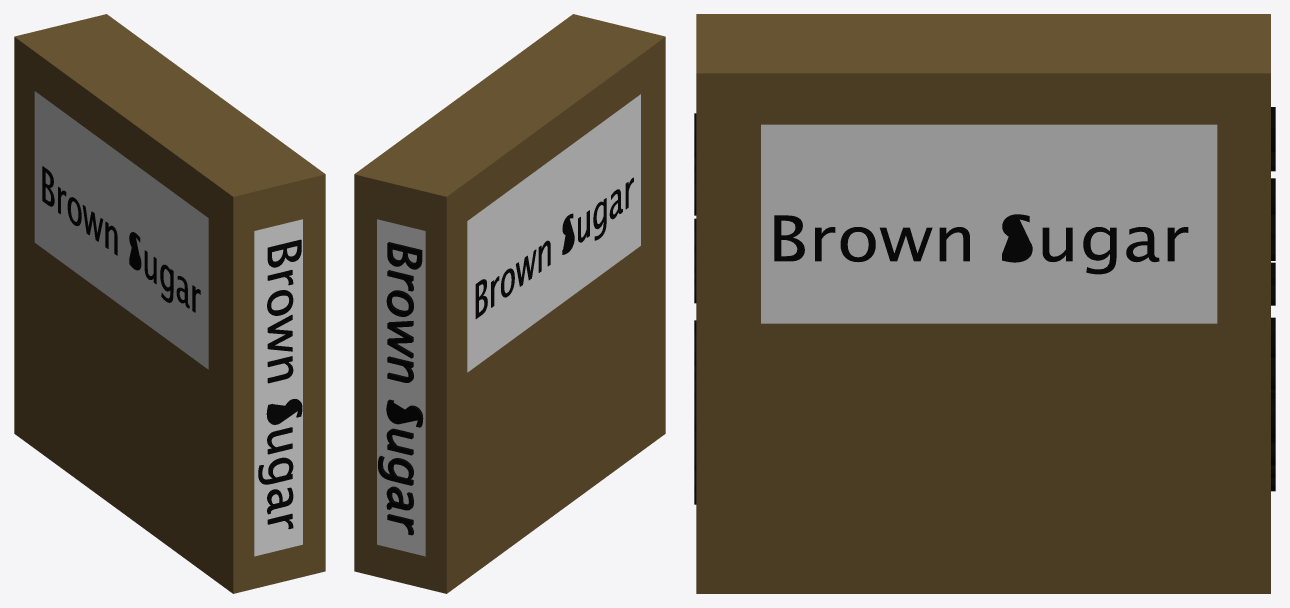
File: Brown_Sugar.fbx
The picture shows the model from 3 angles, left to right: view 1: azimuth 30°, elevation 25°; view 2: azimuth 150°, elevation 25°; view 3: azimuth 270°, elevation 25°; orthographic projection. The views are drawn at different scales.
Visible parts, largest first — view 1: Brown_Sugar; view 2: Brown_Sugar; view 3: Brown_Sugar.
Part boxes in pixels (x1,y1,x2,y2): Brown_Sugar: [14, 14, 325, 593]; Brown_Sugar: [354, 14, 665, 593]; Brown_Sugar: [694, 14, 1275, 593].
Bounding box in the file's own units: 7.17 × 29.06 × 29.4.
